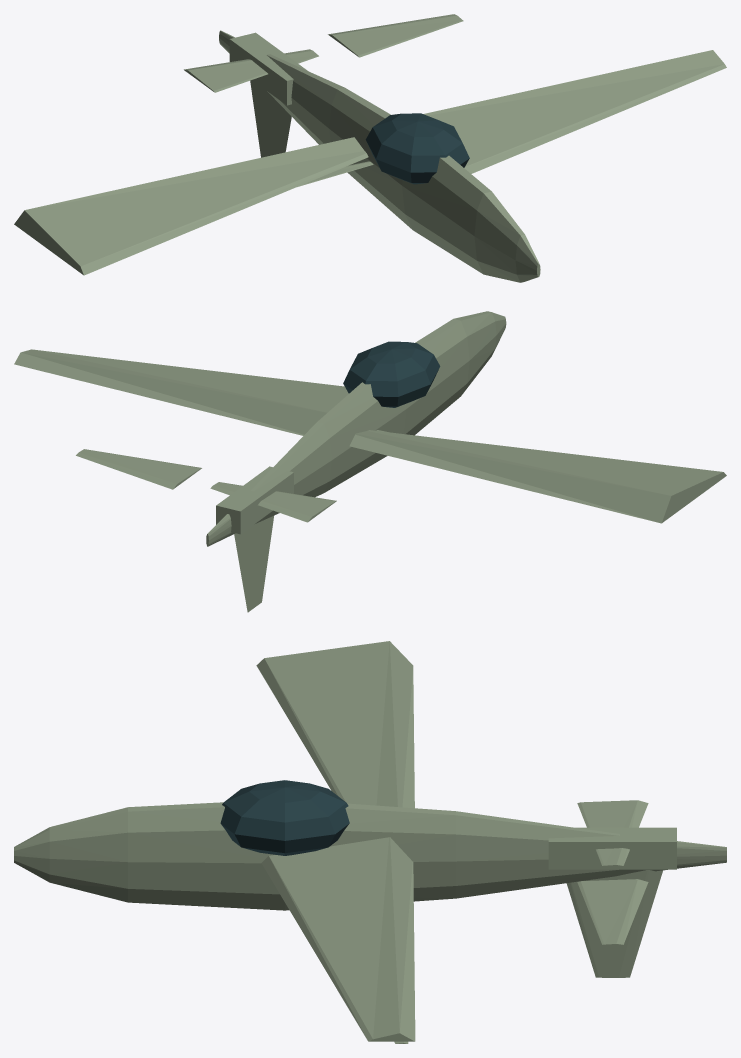
The model's file is typhoon.glb.
3 renders of one model, top to bottom at view 1: azimuth 30°, elevation 25°; view 2: azimuth 150°, elevation 25°; view 3: azimuth 270°, elevation 25°, orthographic. The views are drawn at different scales.
Visible parts, largest first — view 1: Wing_L, Fuselage, Wing_R, Cockpit, Elevator_R, TailBoom, Rudder, Elevator_L; view 2: Wing_L, Fuselage, Wing_R, Cockpit, TailBoom, Rudder, Elevator_R, Elevator_L; view 3: Fuselage, Wing_R, Wing_L, Cockpit, TailBoom, Rudder, Elevator_R, Elevator_L.
Boxes of the visible parts, x1,y1,x2,y2 form: Wing_L: [14, 137, 368, 275]; Fuselage: [219, 30, 540, 282]; Wing_R: [423, 50, 726, 173]; Cockpit: [365, 113, 469, 184]; Elevator_R: [328, 14, 463, 57]; TailBoom: [229, 32, 307, 105]; Rudder: [250, 80, 291, 157]; Elevator_L: [184, 49, 318, 92]; Wing_L: [349, 430, 726, 523]; Fuselage: [206, 311, 506, 546]; Wing_R: [14, 349, 348, 435]; Cockpit: [343, 341, 440, 407]; TailBoom: [216, 466, 293, 534]; Rudder: [234, 516, 273, 612]; Elevator_R: [76, 449, 201, 489]; Elevator_L: [210, 482, 336, 522]; Fuselage: [14, 802, 726, 910]; Wing_R: [261, 837, 415, 1041]; Wing_L: [256, 641, 414, 808]; Cockpit: [220, 780, 349, 855]; TailBoom: [548, 827, 676, 869]; Rudder: [566, 870, 662, 977]; Elevator_R: [577, 879, 648, 944]; Elevator_L: [577, 800, 648, 865].
Size of the model in its own units: 12.19 by 2.85 by 9.7.
